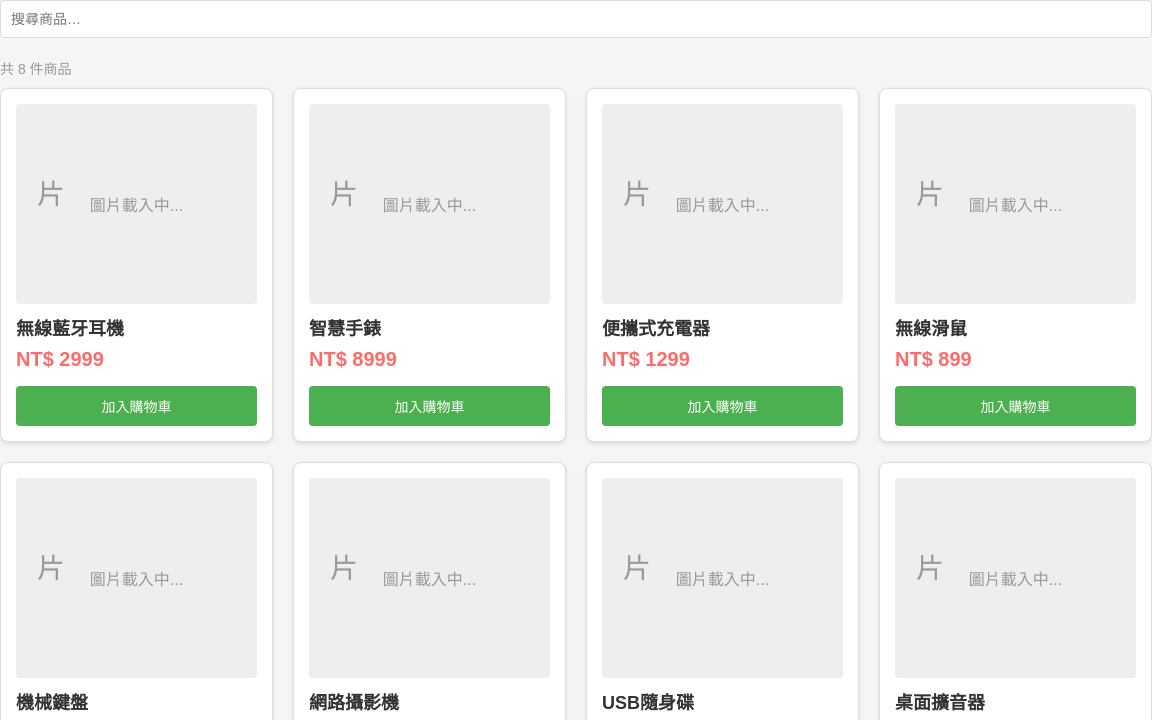
Test: Ticket 05: search products by name › matches the name only, not the description
"快充" appears only in a description.
Step 1. Type "快充" into the search field labelled "搜尋商品" → {"x": 576, "y": 19}, box [0, 0, 1151, 38]
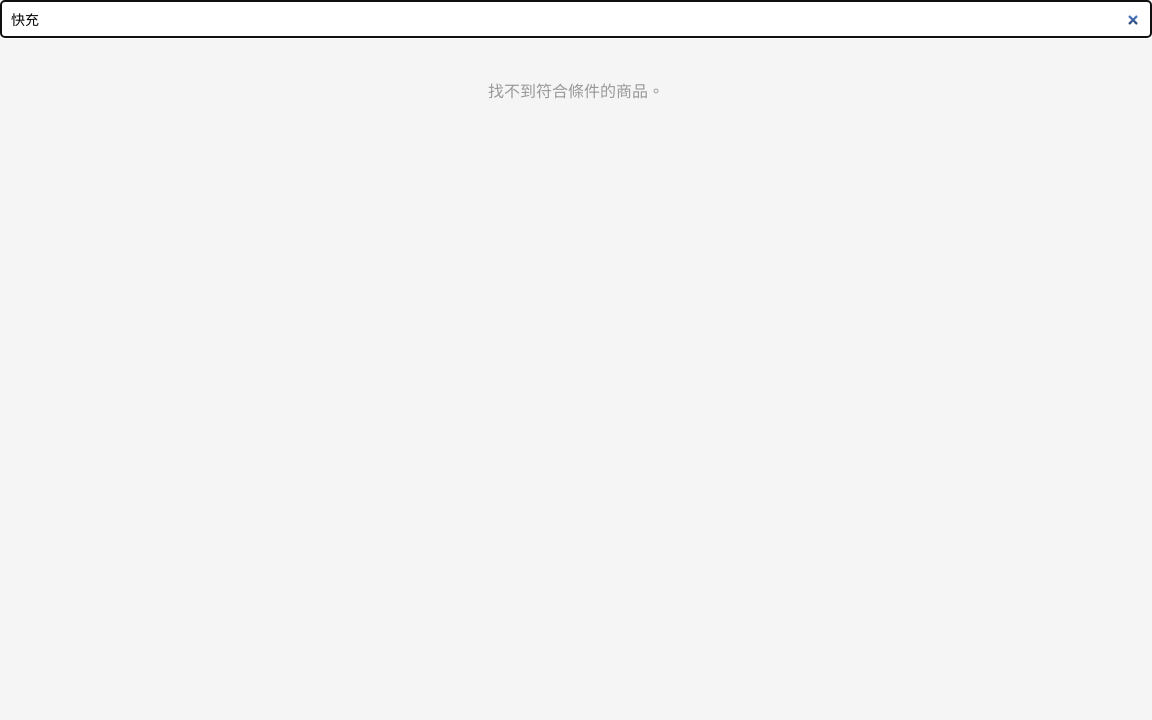
Expected: the text "找不到符合條件的商品。" is shown, [488, 83, 664, 100]
